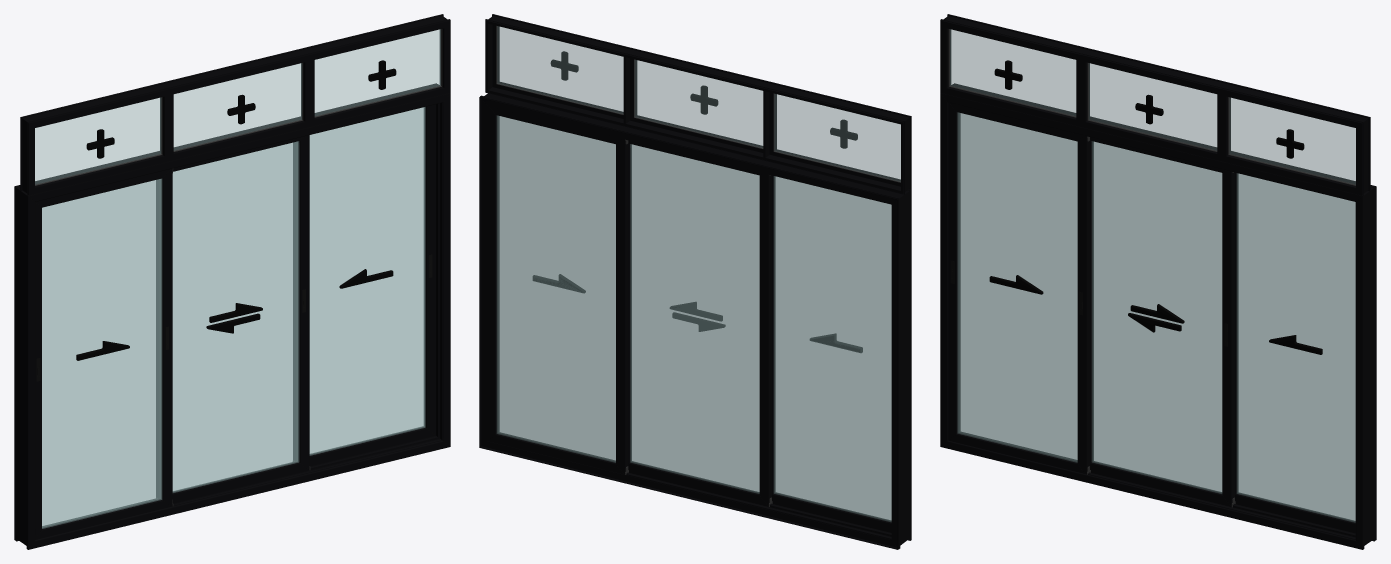
The model's file is SLIDING-ROYAL-3-TRACK-3-PANELS-W-FIXED-TOP-W-2-TSEC.glb.
3 renders of one model, left to right at view 1: azimuth 30°, elevation 25°; view 2: azimuth 150°, elevation 25°; view 3: azimuth 330°, elevation 25°, orthographic.
Visible parts, largest first — view 1: GEO-PNL-1-2-SSH-GLZ-IN, GEO-PNL-1-2-SSH-GLZ-OUT, GEO-PNL-1-1-SSH-GLZ-IN, GEO-PNL-1-1-SSH-GLZ-OUT, GEO-PNL-1-3-SSH-GLZ-IN, GEO-PNL-1-3-SSH-GLZ-OUT, GEO-GRD-0-1-FRM-GLZ-IN, GEO-GRD-0-0-FRM-SIDE-L, GEO-GRD-0-1-FRM-RAIL-T, GEO-GRD-0-0-FRM-SIDE-R, GEO-GRD-0-0-FRM-RAIL-B, GEO-GRD-0-1-FRM-RAIL-B (+16 smaller); view 2: GEO-PNL-1-2-SSH-GLZ-OUT, GEO-PNL-1-2-SSH-GLZ-IN, GEO-PNL-1-3-SSH-GLZ-OUT, GEO-PNL-1-1-SSH-GLZ-OUT, GEO-PNL-1-3-SSH-GLZ-IN, GEO-PNL-1-1-SSH-GLZ-IN, GEO-GRD-0-1-FRM-GLZ-IN, GEO-GRD-0-0-FRM-SIDE-L, GEO-GRD-0-1-FRM-RAIL-B, GEO-GRD-0-0-FRM-RAIL-T, GEO-GRD-0-0-FRM-RAIL-B, GEO-GRD-0-1-FRM-RAIL-T (+16 smaller); view 3: GEO-PNL-1-2-SSH-GLZ-IN, GEO-PNL-1-2-SSH-GLZ-OUT, GEO-PNL-1-1-SSH-GLZ-IN, GEO-PNL-1-1-SSH-GLZ-OUT, GEO-PNL-1-3-SSH-GLZ-IN, GEO-PNL-1-3-SSH-GLZ-OUT, GEO-GRD-0-1-FRM-GLZ-IN, GEO-GRD-0-0-FRM-SIDE-R, GEO-GRD-0-1-FRM-RAIL-T, GEO-GRD-0-0-FRM-RAIL-B, GEO-GRD-0-1-FRM-RAIL-B, GEO-GRD-0-0-FRM-RAIL-T (+17 smaller).
Boxes of the visible parts, x1=… form: GEO-PNL-1-2-SSH-GLZ-IN: x1=173, y1=141, x2=298, y2=492; GEO-PNL-1-2-SSH-GLZ-OUT: x1=173, y1=142, x2=297, y2=491; GEO-PNL-1-1-SSH-GLZ-IN: x1=42, y1=179, x2=161, y2=528; GEO-PNL-1-1-SSH-GLZ-OUT: x1=42, y1=179, x2=160, y2=527; GEO-PNL-1-3-SSH-GLZ-IN: x1=310, y1=107, x2=425, y2=455; GEO-PNL-1-3-SSH-GLZ-OUT: x1=310, y1=107, x2=424, y2=454; GEO-GRD-0-1-FRM-GLZ-IN: x1=35, y1=29, x2=440, y2=184; GEO-GRD-0-0-FRM-SIDE-L: x1=14, y1=201, x2=35, y2=535; GEO-GRD-0-1-FRM-RAIL-T: x1=35, y1=17, x2=436, y2=126; GEO-GRD-0-0-FRM-SIDE-R: x1=436, y1=105, x2=450, y2=433; GEO-GRD-0-0-FRM-RAIL-B: x1=42, y1=437, x2=436, y2=546; GEO-GRD-0-1-FRM-RAIL-B: x1=35, y1=87, x2=436, y2=192; GEO-PNL-1-2-SSH-GLZ-OUT: x1=630, y1=144, x2=759, y2=493; GEO-PNL-1-2-SSH-GLZ-IN: x1=631, y1=144, x2=759, y2=492; GEO-PNL-1-3-SSH-GLZ-OUT: x1=497, y1=115, x2=615, y2=462; GEO-PNL-1-1-SSH-GLZ-OUT: x1=774, y1=176, x2=891, y2=521; GEO-PNL-1-3-SSH-GLZ-IN: x1=498, y1=116, x2=615, y2=461; GEO-PNL-1-1-SSH-GLZ-IN: x1=775, y1=176, x2=891, y2=520; GEO-GRD-0-1-FRM-GLZ-IN: x1=497, y1=26, x2=900, y2=181; GEO-GRD-0-0-FRM-SIDE-L: x1=891, y1=204, x2=911, y2=535; GEO-GRD-0-1-FRM-RAIL-B: x1=499, y1=83, x2=897, y2=191; GEO-GRD-0-0-FRM-RAIL-T: x1=493, y1=96, x2=891, y2=202; GEO-GRD-0-0-FRM-RAIL-B: x1=493, y1=434, x2=891, y2=546; GEO-GRD-0-1-FRM-RAIL-T: x1=499, y1=17, x2=897, y2=121; GEO-PNL-1-2-SSH-GLZ-IN: x1=1092, y1=141, x2=1221, y2=493; GEO-PNL-1-2-SSH-GLZ-OUT: x1=1093, y1=142, x2=1221, y2=492; GEO-PNL-1-1-SSH-GLZ-IN: x1=957, y1=112, x2=1077, y2=462; GEO-PNL-1-1-SSH-GLZ-OUT: x1=958, y1=113, x2=1077, y2=461; GEO-PNL-1-3-SSH-GLZ-IN: x1=1237, y1=173, x2=1355, y2=522; GEO-PNL-1-3-SSH-GLZ-OUT: x1=1238, y1=174, x2=1355, y2=520; GEO-GRD-0-1-FRM-GLZ-IN: x1=950, y1=29, x2=1355, y2=184; GEO-GRD-0-0-FRM-SIDE-R: x1=1355, y1=201, x2=1376, y2=535; GEO-GRD-0-1-FRM-RAIL-T: x1=954, y1=17, x2=1355, y2=126; GEO-GRD-0-0-FRM-RAIL-B: x1=954, y1=433, x2=1355, y2=546; GEO-GRD-0-1-FRM-RAIL-B: x1=954, y1=87, x2=1355, y2=192; GEO-GRD-0-0-FRM-RAIL-T: x1=954, y1=86, x2=1355, y2=200.
Size of the model in its own units: 3 by 2.9 by 0.2074.
